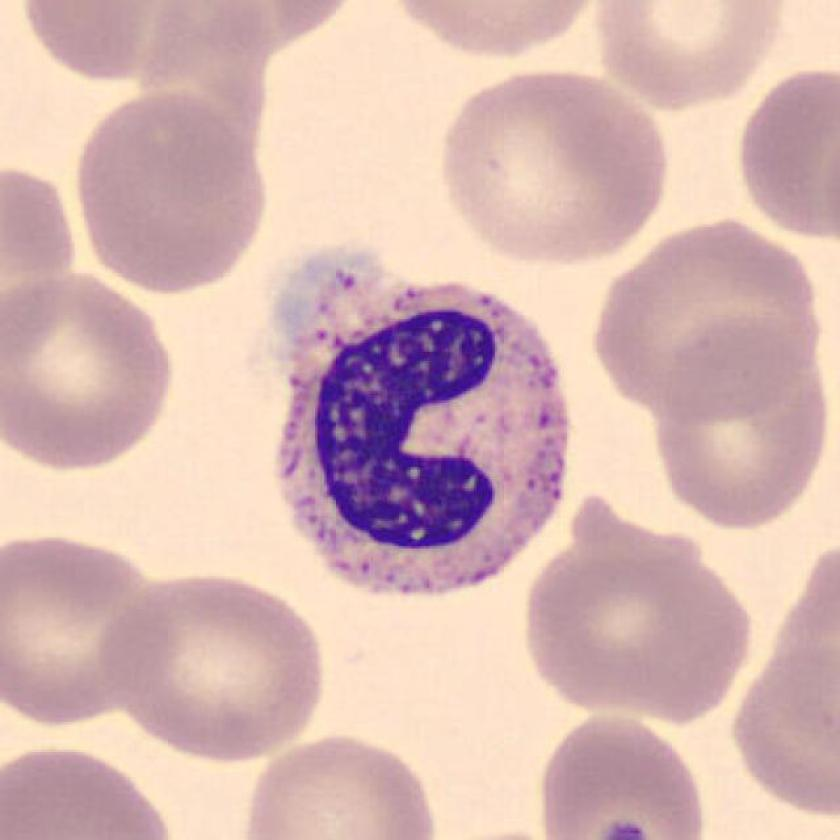neutrophil: (276, 285, 574, 592)
